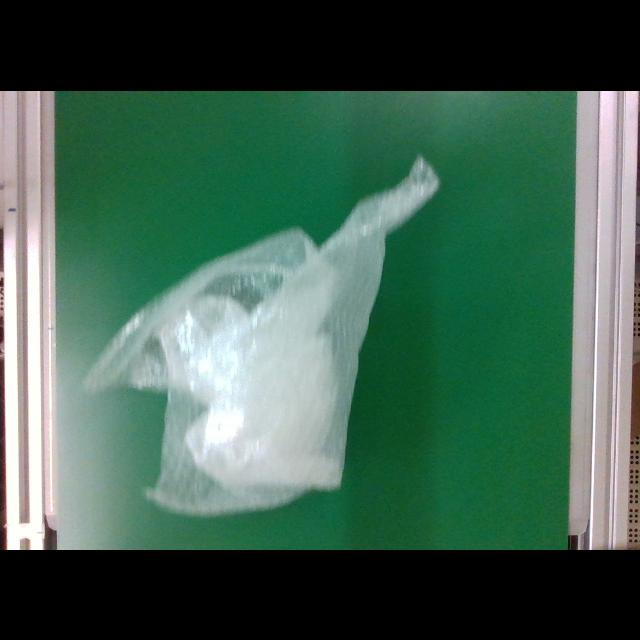scrap_plastic: (93, 155, 439, 518)
